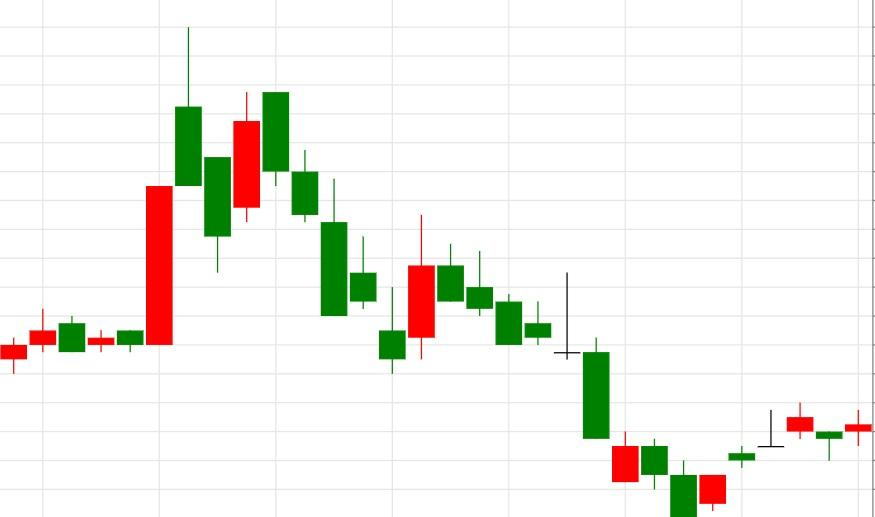three_black_crows_fall: (202, 91, 348, 317)
